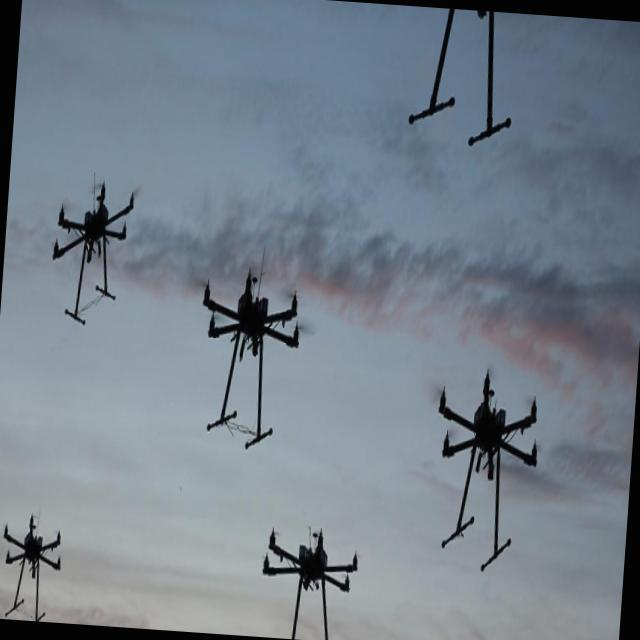drone: (425, 364, 543, 576), (192, 264, 304, 455), (42, 179, 136, 336), (0, 508, 63, 622)
